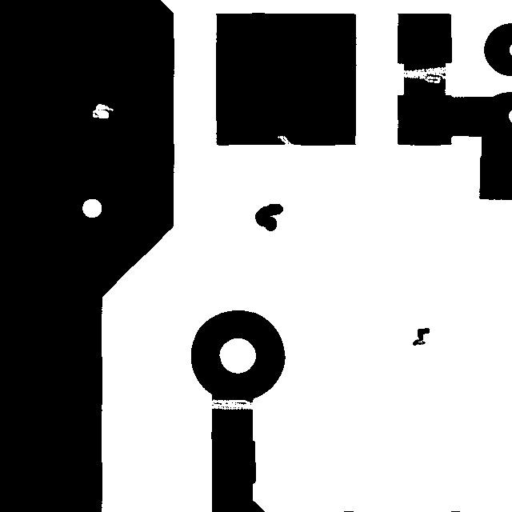copper: (247, 196, 290, 238), (405, 320, 437, 353)
mousebite: (270, 128, 302, 154)
open: (393, 59, 457, 90), (200, 391, 264, 417)
pin-hole: (85, 96, 121, 126)
